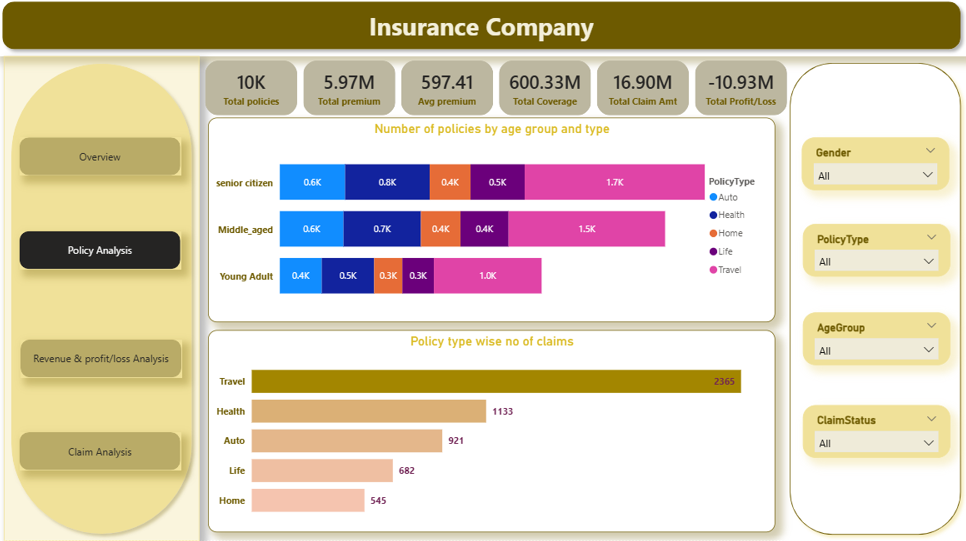

Layout of this report page (visuals, bound fields, positions):
{"tool":"powerbi","page":{"name":"Policy Analysis","canvas":[1280,720],"ordinal":1},"visuals":[{"type":"shape","title":"Insurance Company","box":[0,0,1280.3,81],"z":0},{"type":"shape","box":[0,0,1280.3,81],"z":1000},{"type":"shape","box":[11,81,258,639.5],"z":2000},{"type":"shape","box":[1037,80.7,243.3,639.5],"z":3000},{"type":"slicer","fields":{"Values":["insurance insurancedata.Gender"]},"box":[1062.6,188.3,194.4,69.7],"z":4000},{"type":"slicer","fields":{"Values":["insurance insurancedata.PolicyType"]},"box":[1063.9,302,194.4,69.7],"z":5000},{"type":"slicer","fields":{"Values":["insurance insurancedata.AgeGroup"]},"box":[1063.9,418.2,194.4,69.7],"z":6000},{"type":"slicer","fields":{"Values":["insurance insurancedata.ClaimStatus"]},"box":[1063.9,540.5,194.4,69.7],"z":7000},{"type":"cardVisual","fields":{"Data":["insurance insurancedata.Total policies","insurance insurancedata.total premium","insurance insurancedata.Avg premium per policy","insurance insurancedata.Total Coverage Amt","insurance insurancedata.Total Claim Amt","insurance insurancedata.Overall Profit/Loss"]},"box":[259.2,69.7,804.6,106.4],"z":8000},{"type":"pageNavigator","box":[31.8,188.3,212.8,50.1],"z":9000},{"type":"pageNavigator","box":[31.8,311.8,212.8,50.1],"z":10000},{"type":"pageNavigator","box":[33,453.7,212.8,50.1],"z":11000},{"type":"pageNavigator","box":[31.8,576,212.8,50.1],"z":12000},{"type":"barChart","title":"Number of policies by age group and type","fields":{"Category":["insurance insurancedata.AgeGroup"],"Y":["CountNonNull(insurance insurancedata.policyNumber)"],"Series":["insurance insurancedata.PolicyType"]},"box":[279.4,162.5,746.9,269.4],"z":13000},{"type":"barChart","title":"Policy type wise no of claims","fields":{"Category":["insurance insurancedata.PolicyType"],"Y":["CountNonNull(insurance insurancedata.ClaimNumber)"]},"box":[279.4,441.9,746.9,266.5],"z":14000}]}

Visuals, with their boxes in screenshot pixels (x1, y1, x2, y2), scaled from the page's 1280x720 canvas onto the 966x541 screenshot:
"Insurance Company" shape: (0,0,965,61)
shape: (0,0,965,61)
shape: (8,61,203,540)
shape: (783,61,965,540)
slicer - insurance insurancedata.Gender: (802,141,949,194)
slicer - insurance insurancedata.PolicyType: (803,227,950,279)
slicer - insurance insurancedata.AgeGroup: (803,314,950,367)
slicer - insurance insurancedata.ClaimStatus: (803,406,950,458)
cardVisual - insurance insurancedata.Total policies x insurance insurancedata.total premium: (196,52,803,132)
pageNavigator: (24,141,185,179)
pageNavigator: (24,234,185,272)
pageNavigator: (25,341,186,379)
pageNavigator: (24,433,185,470)
"Number of policies by age group and type" barChart: (211,122,775,325)
"Policy type wise no of claims" barChart: (211,332,775,532)
